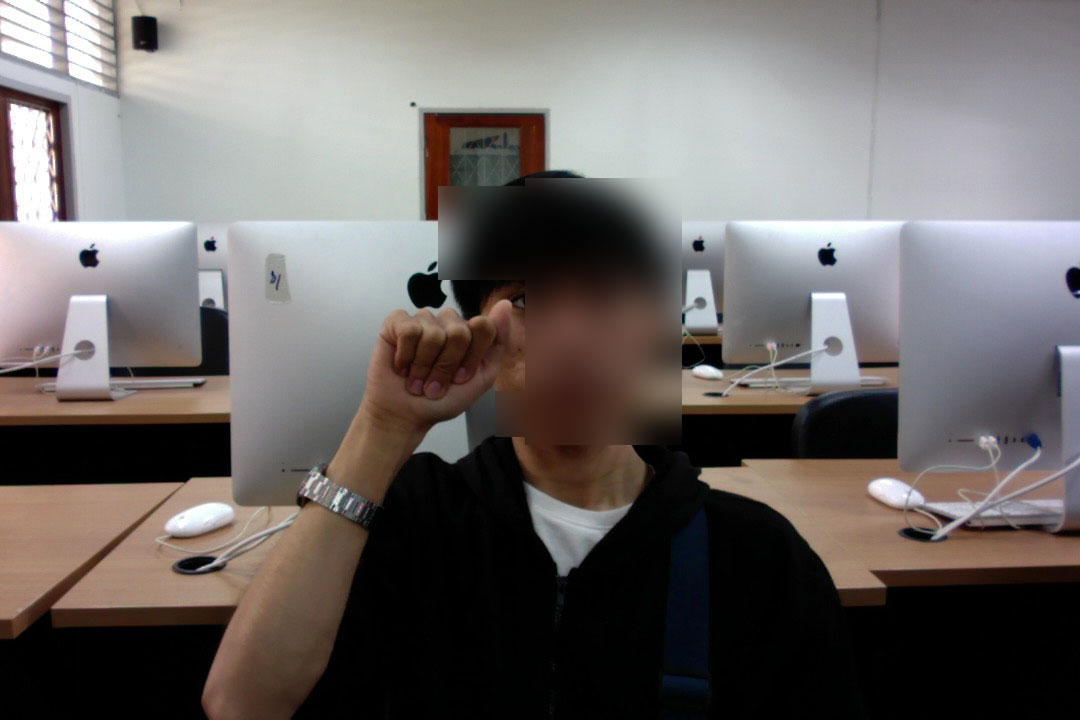or: (345, 291, 524, 441)
